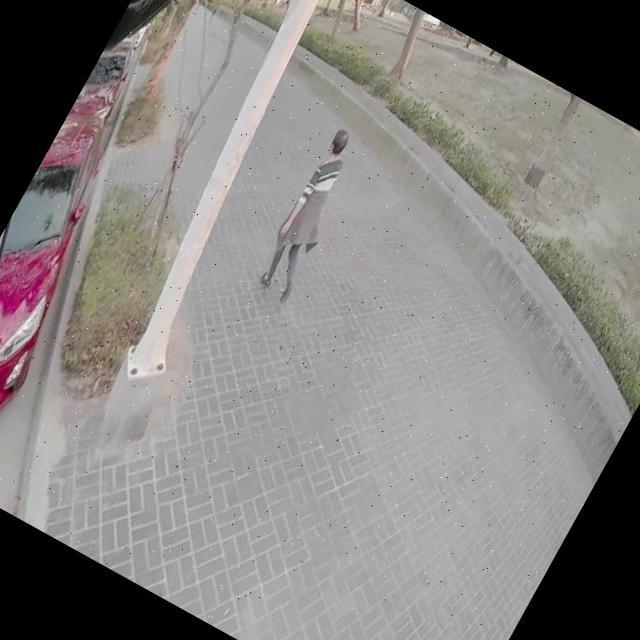person: (252, 126, 376, 304)
